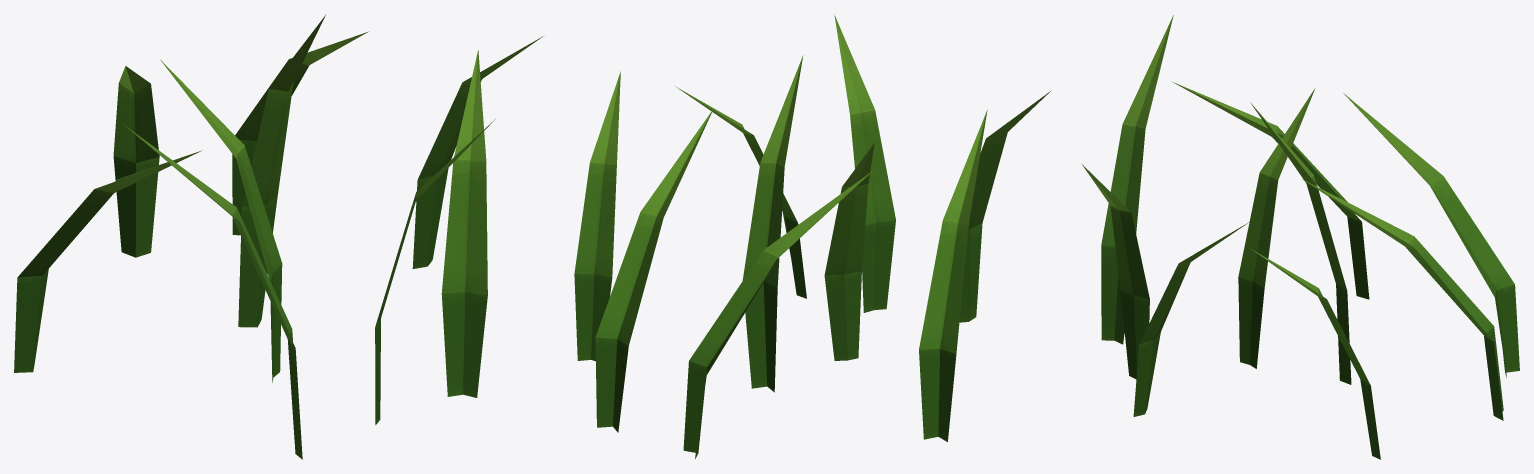
Rendered from GrassLarge3.fbx.
3 renders of one model, left to right at view 1: azimuth 30°, elevation 25°; view 2: azimuth 150°, elevation 25°; view 3: azimuth 270°, elevation 25°, orthographic. The views are drawn at different scales.
Parts seen in each view (by area): view 1: GrassLarge3; view 2: GrassLarge3; view 3: GrassLarge3.
Boxes of the visible parts, bbox=[...] form: GrassLarge3: bbox=[14, 15, 543, 459]; GrassLarge3: bbox=[574, 14, 1051, 458]; GrassLarge3: bbox=[1082, 15, 1519, 459].
Bounding box in the file's own units: 0.8514 × 0.6096 × 0.8519.
1 material, 1 textured.
